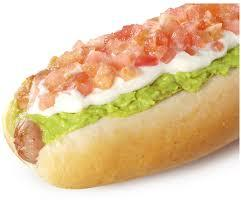Completos: (8, 1, 241, 193)
